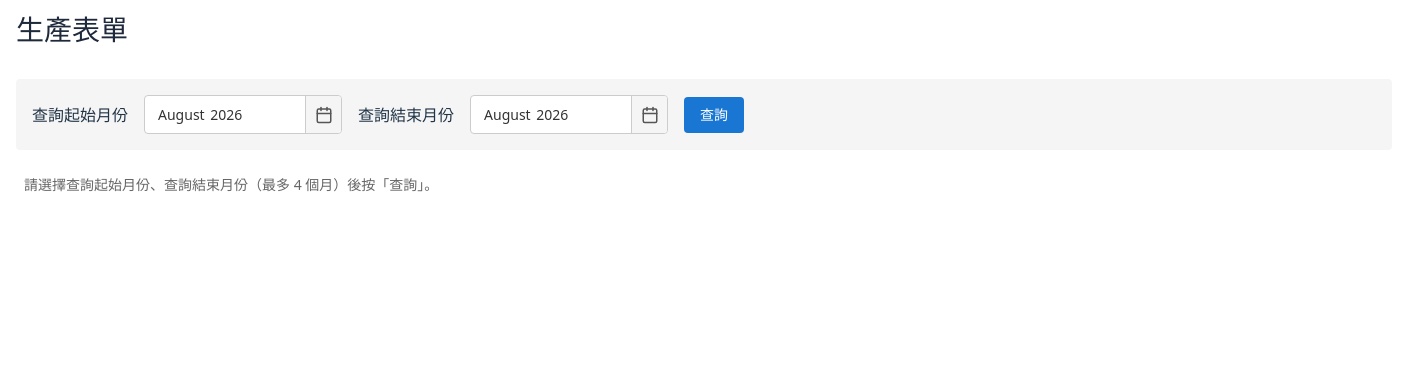
Test: ProductionPlanPage › shows empty state when no data
The width and height of the screenshot is (1409, 390).
Click the button "查詢" at [714, 115], box [684,97,744,133]
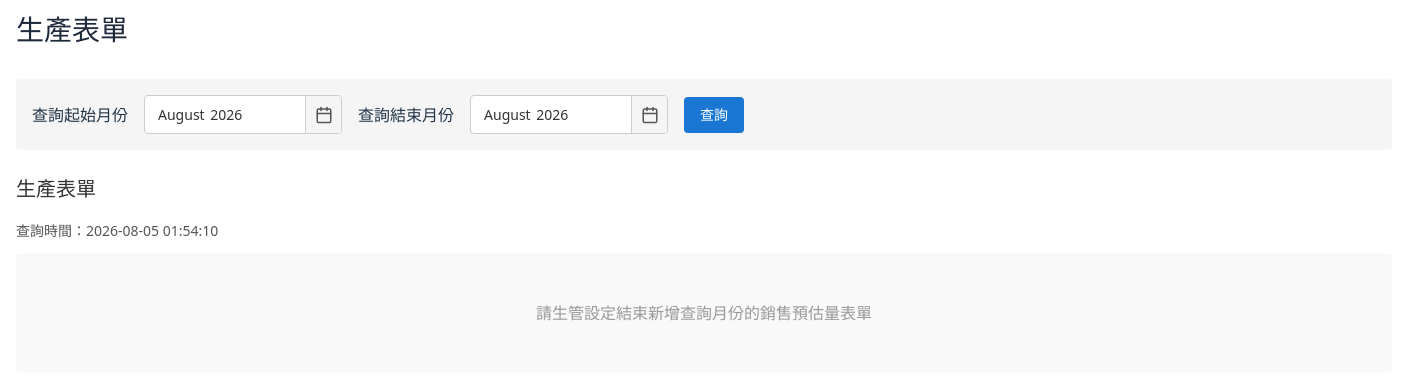
Check: the text "請生管設定結束新增查詢月份的銷售預估量表單" is shown, box [16,253,1392,373]
